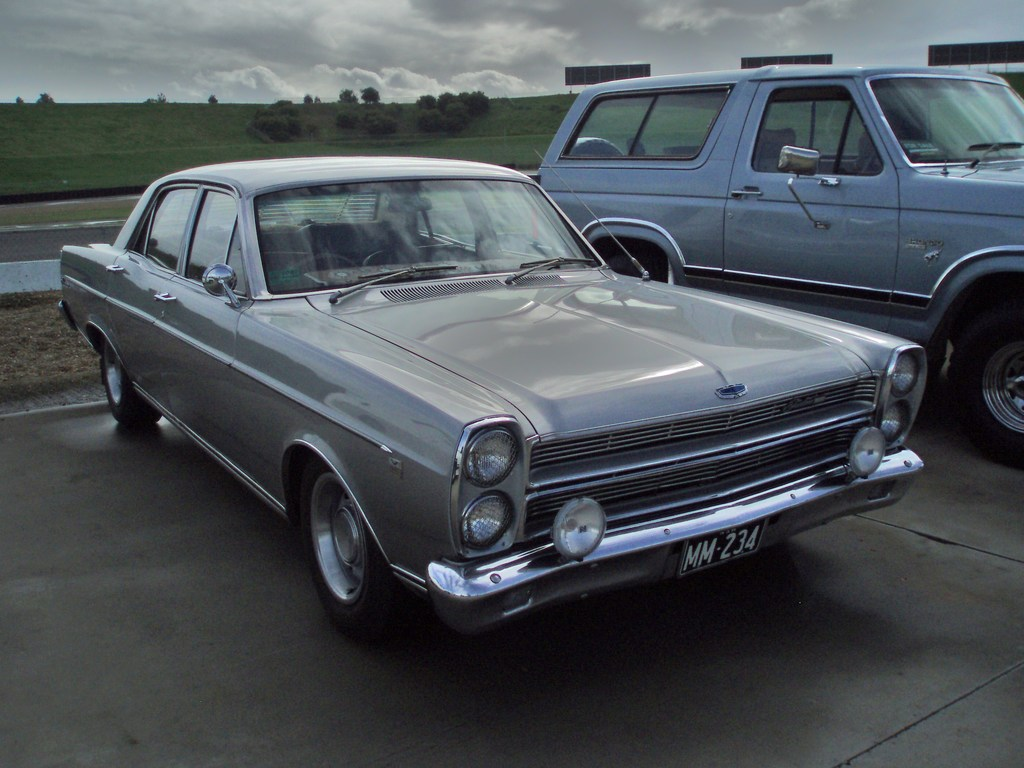Car: (56, 149, 924, 642), (529, 63, 1023, 467)
